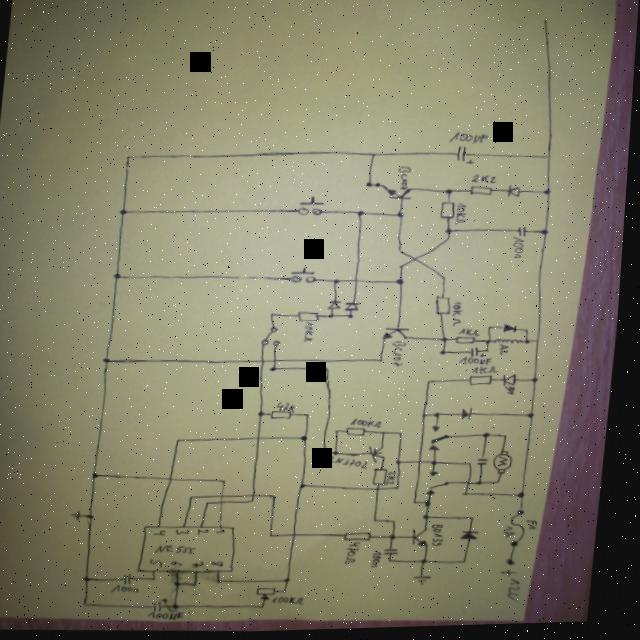capacitor: (457, 147, 478, 169), (160, 598, 177, 613), (474, 349, 491, 361), (390, 548, 407, 559), (519, 228, 530, 240), (129, 574, 140, 585), (482, 459, 494, 469)
crossover: (470, 483, 479, 489), (297, 533, 305, 539), (277, 359, 283, 365), (261, 436, 267, 442), (415, 258, 421, 264), (173, 478, 180, 483), (356, 280, 362, 285), (265, 360, 271, 365), (422, 462, 429, 466), (257, 495, 263, 499), (225, 501, 231, 505), (226, 496, 231, 500), (382, 489, 386, 493)
diode: (505, 375, 523, 399), (466, 532, 486, 543), (508, 186, 523, 200), (347, 303, 365, 314), (330, 301, 345, 312), (466, 409, 478, 422), (507, 326, 521, 336)
ground: (420, 576, 440, 588), (77, 510, 88, 521)
inductor: (498, 340, 529, 348)
junction: (398, 212, 407, 220), (89, 576, 99, 583), (106, 357, 116, 364), (357, 211, 367, 218), (487, 434, 497, 441), (430, 502, 438, 509), (444, 339, 453, 345), (545, 192, 554, 198), (542, 232, 551, 238), (262, 412, 271, 418), (399, 280, 408, 286), (435, 462, 444, 468), (226, 479, 233, 486), (98, 472, 105, 479), (536, 379, 543, 386), (447, 191, 455, 197), (336, 280, 344, 286), (93, 514, 101, 520), (117, 273, 125, 279), (122, 209, 130, 215), (367, 184, 375, 190), (447, 231, 455, 237), (430, 381, 438, 387), (524, 495, 532, 501), (532, 415, 540, 421), (429, 516, 437, 522), (274, 367, 282, 373), (180, 582, 189, 587), (444, 352, 451, 358), (306, 436, 313, 442), (396, 536, 403, 542), (181, 604, 187, 611), (158, 576, 165, 582), (400, 250, 407, 256), (482, 483, 489, 489), (426, 415, 434, 420), (306, 484, 312, 490), (373, 153, 379, 159), (401, 461, 407, 467), (529, 341, 535, 347), (489, 341, 496, 346), (332, 315, 339, 320), (428, 561, 435, 566), (379, 520, 386, 525), (291, 579, 298, 584), (199, 583, 206, 588), (401, 266, 408, 271), (382, 360, 389, 365), (338, 452, 344, 457), (181, 438, 187, 443), (395, 560, 401, 565), (398, 521, 404, 526), (91, 602, 97, 607), (329, 368, 335, 373), (468, 561, 474, 566), (440, 414, 446, 419), (508, 436, 514, 441), (502, 482, 508, 487), (419, 502, 425, 507), (403, 433, 409, 438), (386, 432, 392, 437), (401, 488, 407, 493), (490, 328, 497, 332), (547, 158, 554, 162), (351, 316, 358, 320), (272, 314, 279, 318), (277, 495, 284, 499), (472, 464, 479, 468), (289, 591, 296, 595), (224, 580, 229, 585), (310, 415, 316, 419), (340, 431, 346, 435), (256, 500, 262, 504), (275, 535, 281, 539), (211, 502, 217, 506), (195, 496, 201, 500), (127, 155, 133, 159), (448, 239, 454, 243), (444, 279, 450, 283), (476, 519, 482, 523), (469, 494, 475, 498), (267, 606, 273, 610), (527, 331, 533, 335), (329, 452, 334, 456), (490, 351, 494, 355), (540, 342, 544, 346)
resistor: (437, 297, 457, 318), (441, 203, 460, 222), (349, 532, 379, 544), (262, 587, 285, 602), (377, 469, 394, 489), (473, 376, 498, 389), (300, 312, 325, 324), (275, 410, 298, 422), (470, 187, 495, 198), (458, 338, 481, 347), (351, 429, 372, 438)
switch: (431, 472, 458, 498), (298, 196, 328, 219), (434, 427, 457, 454), (291, 267, 322, 287), (264, 326, 287, 348)
terminal: (512, 561, 524, 568), (541, 21, 549, 27)
text: (506, 570, 530, 605), (332, 456, 375, 472), (450, 133, 491, 147), (161, 544, 204, 557), (350, 542, 369, 568), (395, 342, 412, 369), (154, 611, 193, 622), (435, 525, 452, 550), (279, 596, 313, 608), (398, 167, 414, 192), (355, 418, 388, 430), (117, 583, 148, 595), (454, 303, 468, 329), (513, 238, 528, 262), (462, 358, 497, 368), (472, 175, 499, 187), (457, 205, 471, 227), (476, 367, 504, 377), (376, 551, 390, 570), (281, 402, 302, 414), (307, 323, 319, 344), (462, 330, 485, 339), (156, 558, 171, 569), (392, 473, 403, 487), (532, 522, 545, 533), (510, 529, 523, 540), (502, 347, 514, 358), (159, 529, 174, 537), (181, 529, 198, 536), (177, 560, 191, 568), (217, 561, 231, 568), (199, 561, 211, 568), (204, 530, 217, 536), (222, 529, 233, 535)
transistor: (383, 186, 415, 202), (386, 327, 414, 343), (417, 530, 437, 550), (373, 446, 393, 465)
